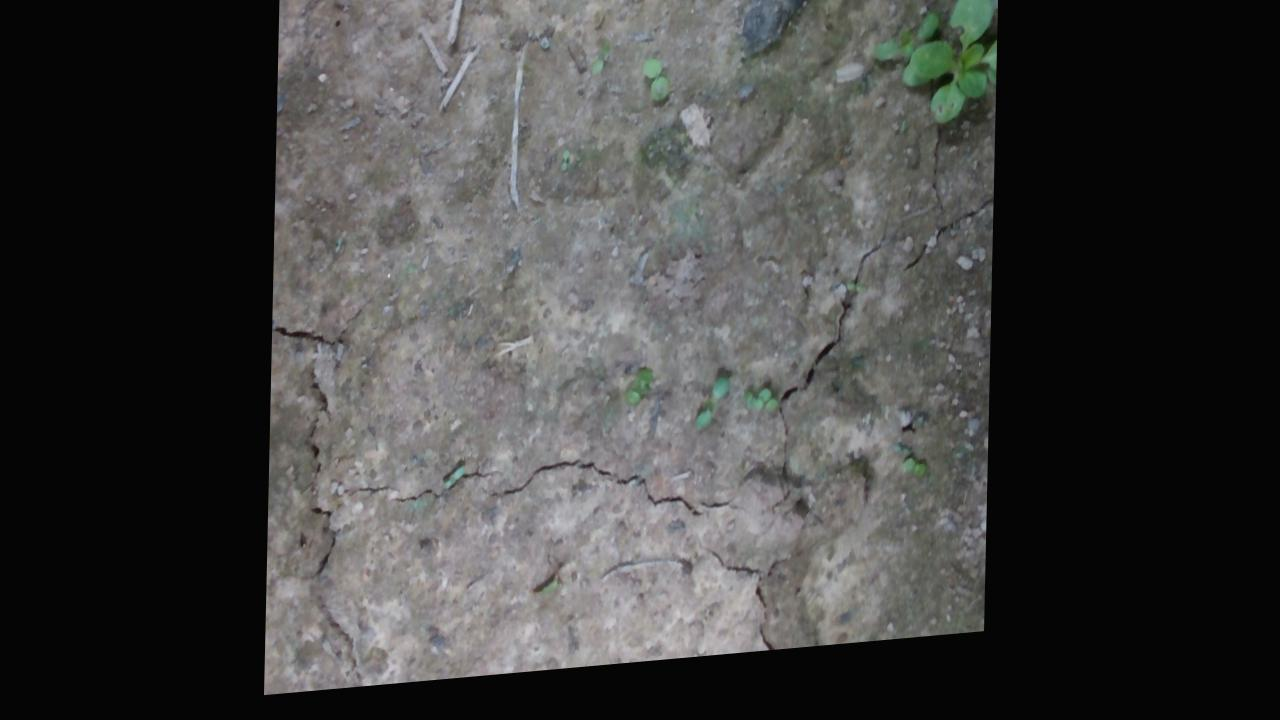weed: (695, 385, 734, 453), (638, 55, 676, 121), (747, 391, 782, 442), (622, 381, 657, 424), (439, 464, 474, 507)
